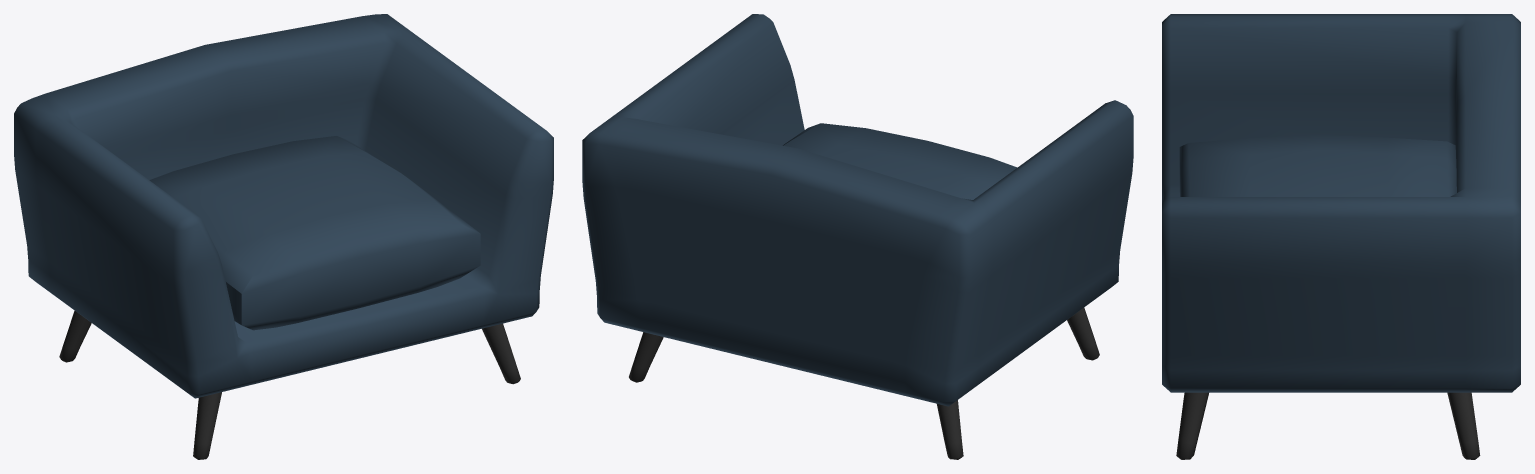
File: TavernCouchSmall-transformed.glb
3 renders of one model, left to right at view 1: azimuth 30°, elevation 25°; view 2: azimuth 150°, elevation 25°; view 3: azimuth 270°, elevation 25°, orthographic. The views are drawn at different scales.
Parts seen in each view (by area): view 1: Couch_Small1; view 2: Couch_Small1; view 3: Couch_Small1.
Boxes of the visible parts, x1,y1,x2,y2 form: Couch_Small1: (14, 14, 553, 459); Couch_Small1: (582, 14, 1133, 459); Couch_Small1: (1162, 14, 1520, 459).
Size of the model in its own units: 2.89 by 1.91 by 2.2.
